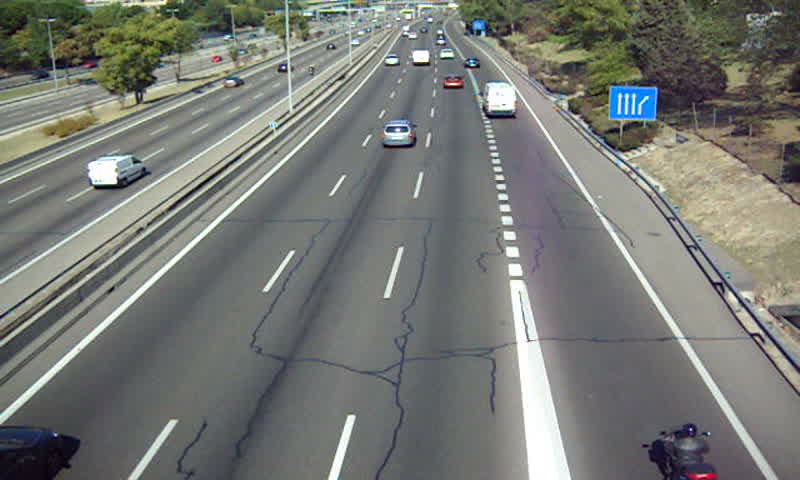car: (381, 120, 417, 148), (441, 73, 463, 90), (463, 56, 481, 70), (440, 47, 455, 60), (384, 54, 399, 67)
motorcycle: (658, 424, 715, 480)
van: (482, 82, 517, 117), (411, 49, 429, 65)
